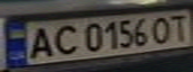0: (78, 20, 106, 53)
1: (103, 18, 121, 51)
5: (118, 17, 136, 50)
6: (130, 16, 154, 47)
A: (21, 25, 57, 61)
C: (48, 22, 81, 56)
O: (148, 14, 175, 44)
T: (166, 11, 193, 42)
